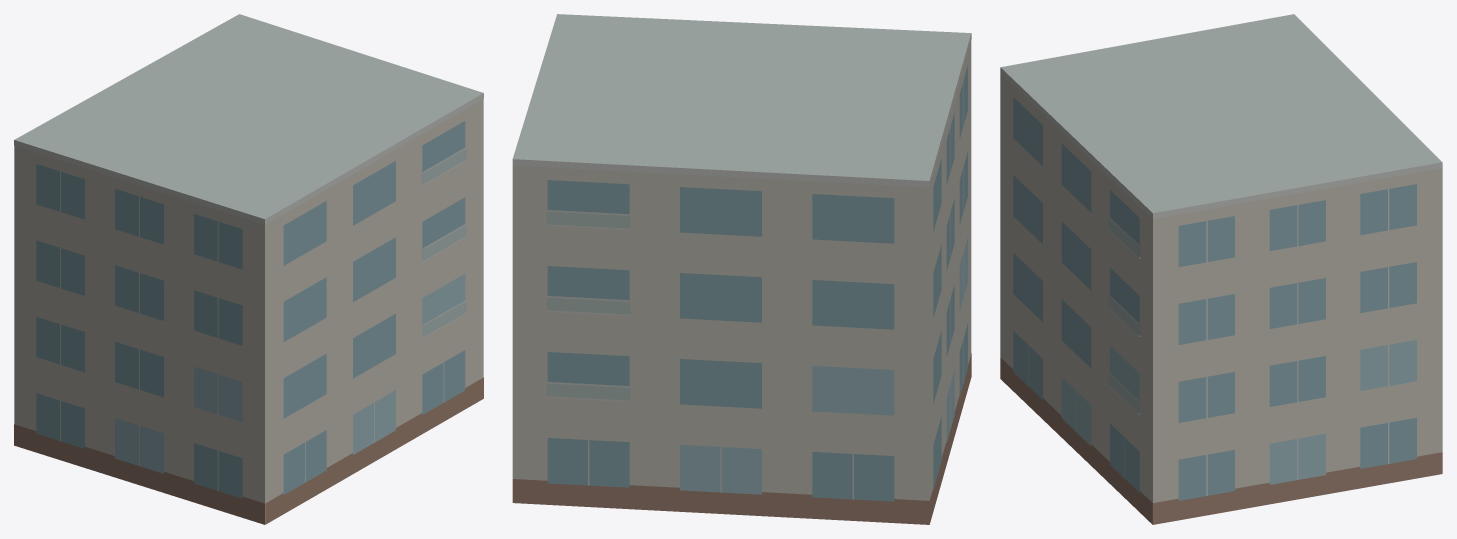
The model's file is survey-upis-32982410.glb.
3 renders of one model, left to right at view 1: azimuth 30°, elevation 25°; view 2: azimuth 150°, elevation 25°; view 3: azimuth 270°, elevation 25°, orthographic. The views are drawn at different scales.
Visible parts, largest first — view 1: survey-upis-32982410.tmp; view 2: survey-upis-32982410.tmp; view 3: survey-upis-32982410.tmp.
Part boxes in pixels (<box>): survey-upis-32982410.tmp: <box>14,14,483,524</box>; survey-upis-32982410.tmp: <box>512,14,971,524</box>; survey-upis-32982410.tmp: <box>1000,14,1442,524</box>.
Size of the model in its own units: 17.97 by 13.1 by 16.85.
